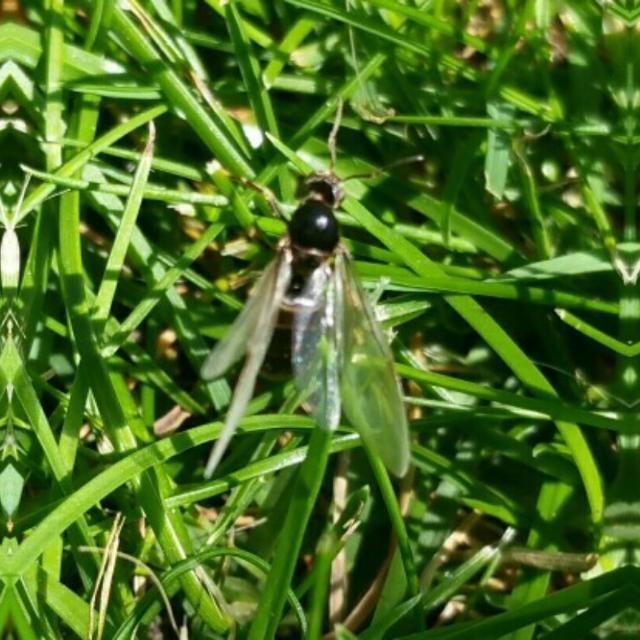Lasius: (202, 122, 422, 448)
